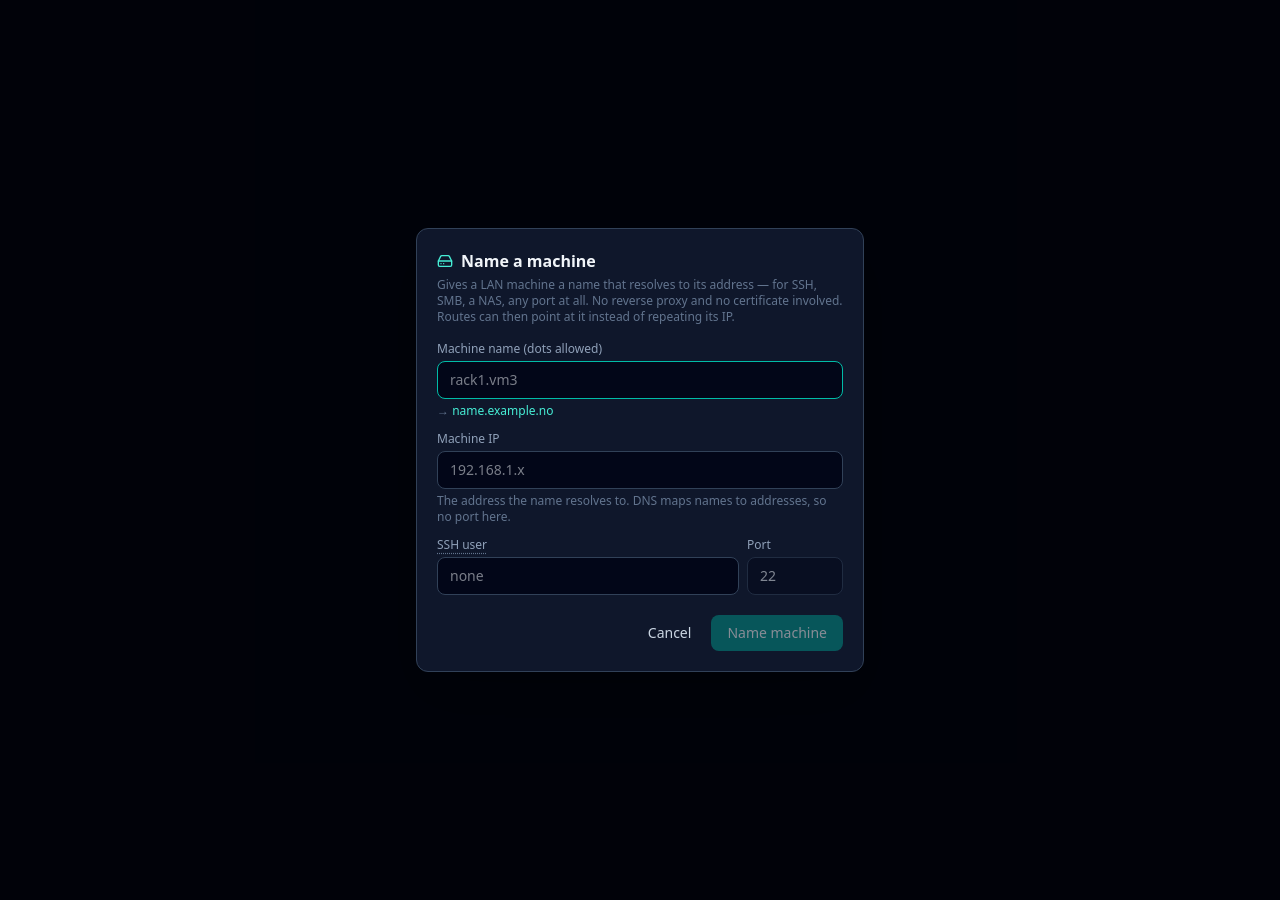
Test: the preview shows the name the machine will answer to
Type "nas" into the field with placeholder "rack1.vm3".
click(640, 380); type("nas")  # box left=437, top=361, right=843, bottom=399
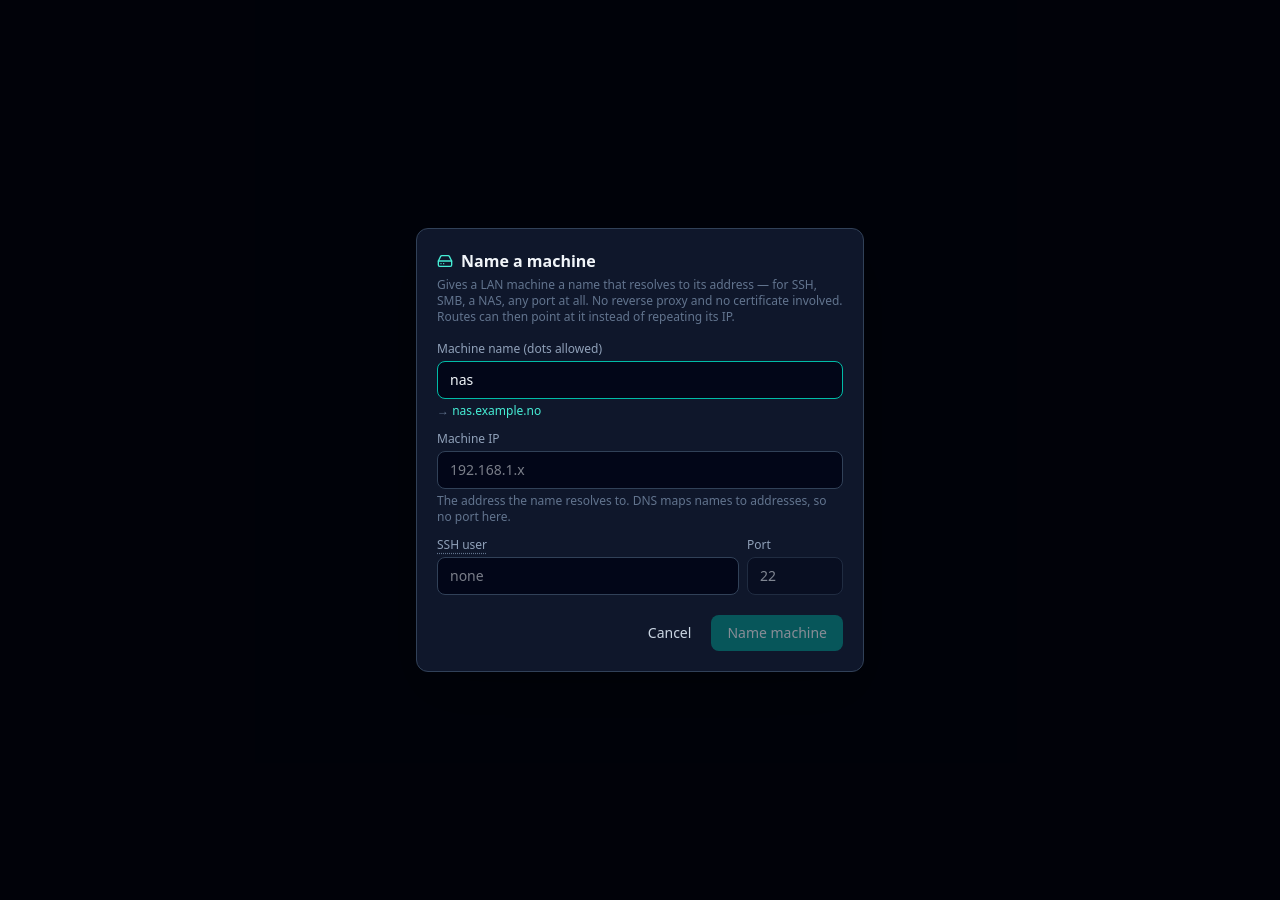
expect the text "nas.example.no" is shown: met, box left=452, top=402, right=541, bottom=419
